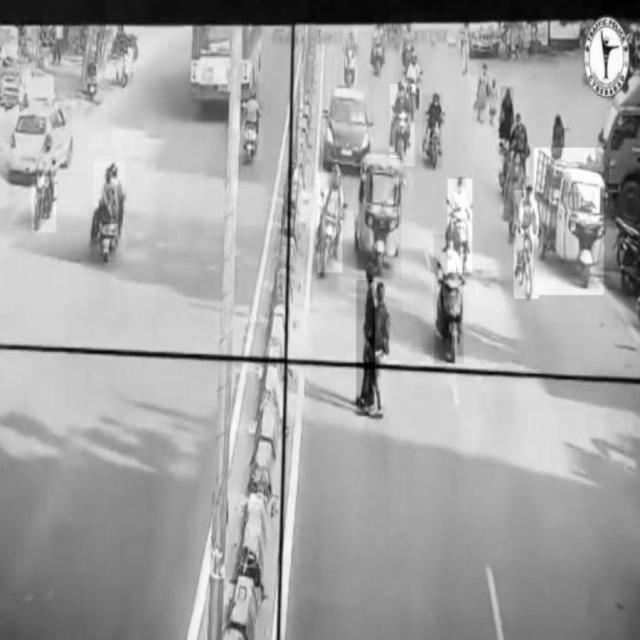person: (371, 280, 389, 420), (356, 280, 374, 411), (500, 87, 514, 151), (478, 63, 488, 123)
vehicle: (535, 148, 605, 295), (357, 158, 401, 279), (8, 100, 72, 176), (434, 235, 464, 363), (328, 85, 369, 163), (94, 162, 124, 260), (514, 191, 539, 299), (32, 132, 57, 233), (318, 172, 343, 273), (447, 179, 473, 272), (390, 85, 415, 167), (422, 94, 442, 168), (243, 90, 263, 160), (343, 29, 358, 90)
